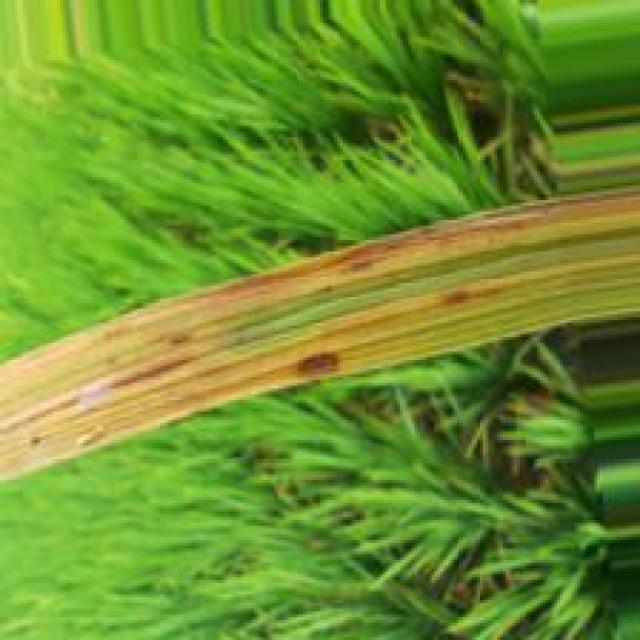Rice Tungro: (129, 189, 638, 323), (0, 350, 203, 441), (281, 350, 341, 380), (430, 289, 476, 313)
